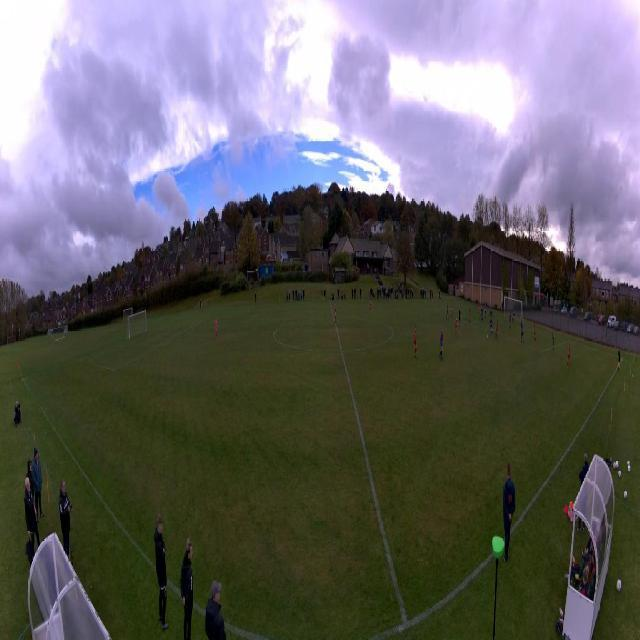ball: (487, 335, 488, 339)
player: (439, 327, 444, 359), (413, 325, 417, 357), (567, 344, 571, 368), (333, 305, 337, 327), (454, 315, 458, 336), (490, 317, 494, 337), (521, 324, 525, 344), (215, 318, 218, 340), (459, 308, 462, 329), (552, 334, 555, 354), (495, 320, 498, 339), (533, 323, 536, 342), (369, 295, 372, 313), (480, 305, 483, 323), (446, 303, 449, 320), (509, 311, 511, 330), (512, 311, 515, 323), (469, 307, 471, 324), (484, 304, 486, 320), (477, 302, 479, 317), (490, 309, 492, 319), (451, 302, 452, 319)
